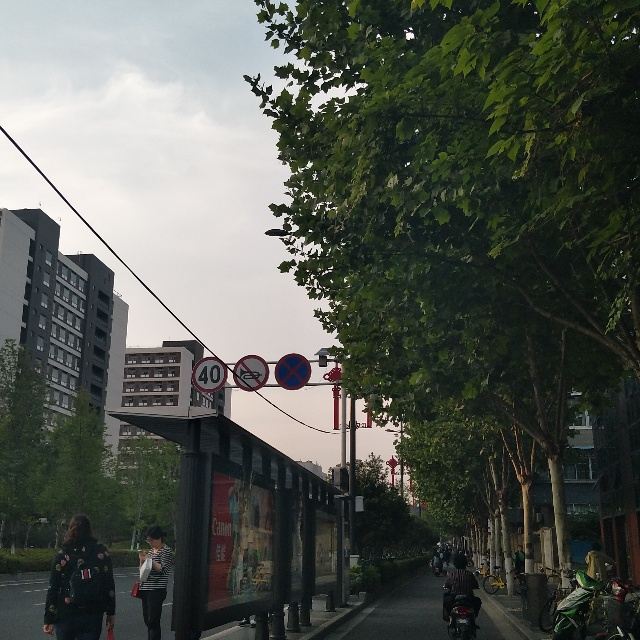nohonk: (231, 349, 268, 391)
stop: (274, 350, 314, 396)
